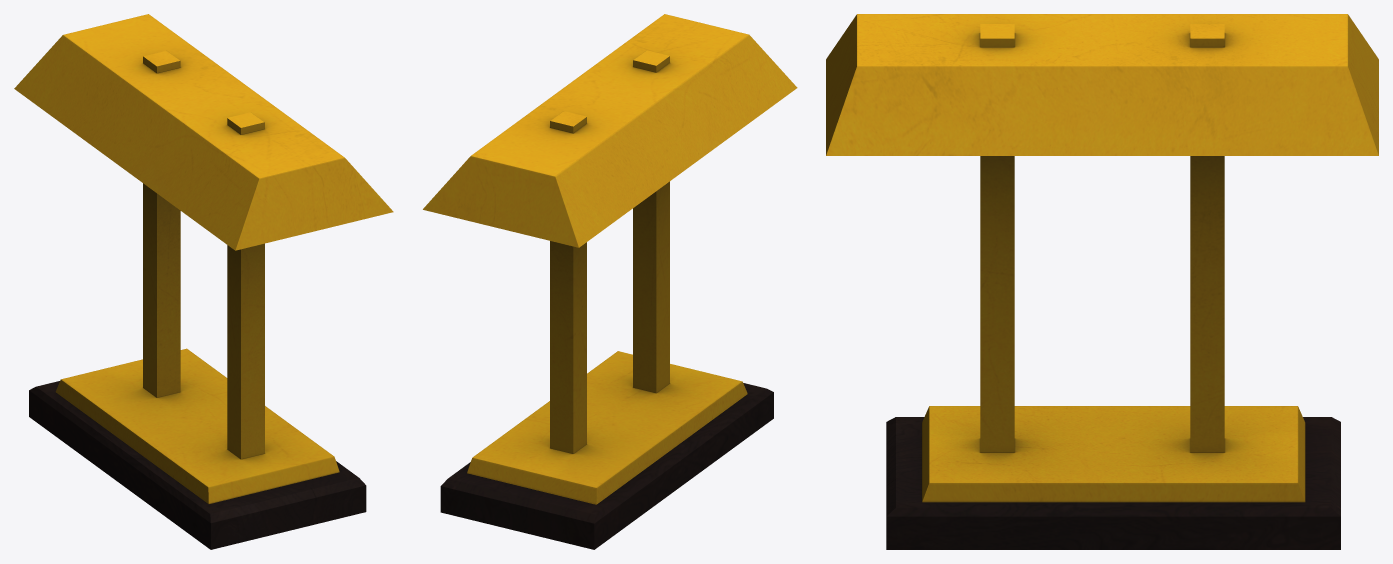
Rendered from deskLamp.fbx.
3 renders of one model, left to right at view 1: azimuth 30°, elevation 25°; view 2: azimuth 150°, elevation 25°; view 3: azimuth 270°, elevation 25°, orthographic. The views are drawn at different scales.
Visible parts, largest first — view 1: Lamp_02; view 2: Lamp_02; view 3: Lamp_02.
Part boxes in pixels (x1,y1,x2,y2): Lamp_02: (14, 14, 393, 549); Lamp_02: (423, 14, 797, 549); Lamp_02: (826, 14, 1378, 549).
Bounding box in the file's own units: 0.147 × 0.3343 × 0.3547.
